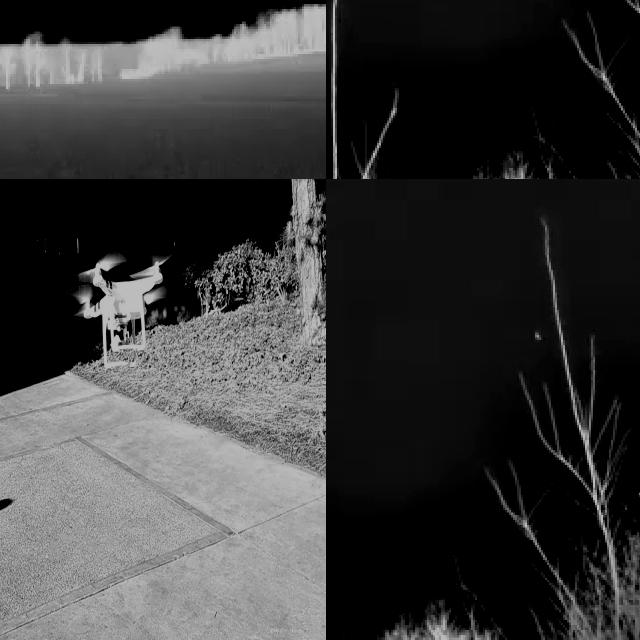0: (525, 326, 545, 352)
drone: (81, 257, 163, 364)
